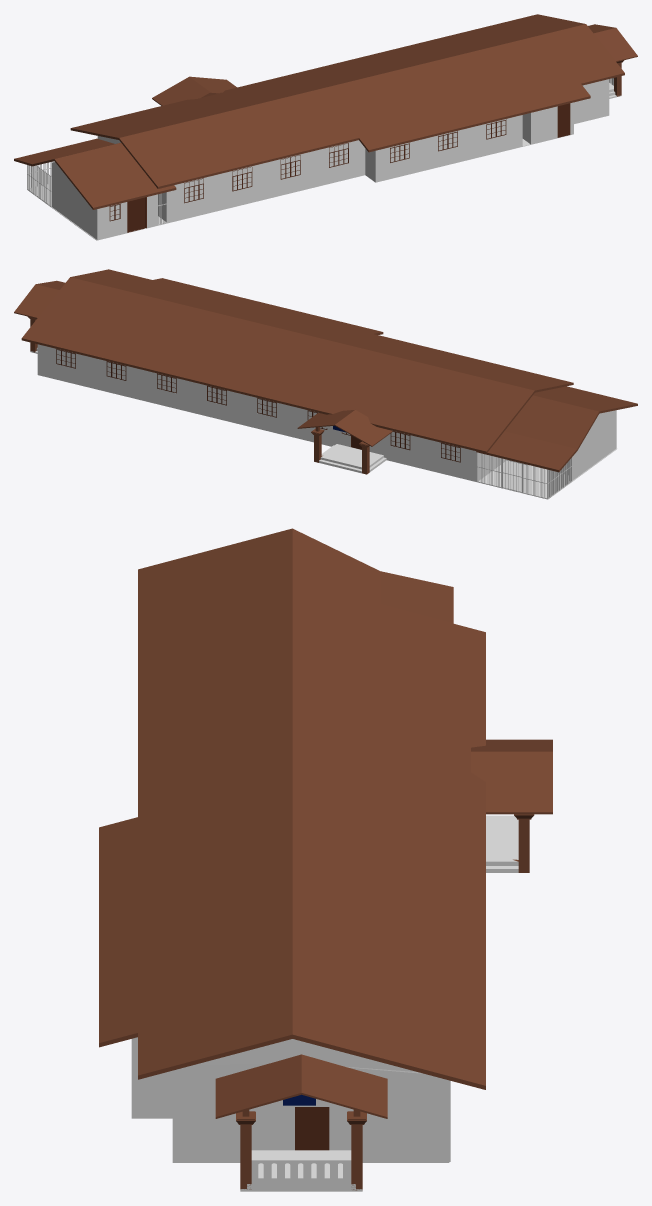
Rendered from Chemical_update.glb.
3 views of the same model, one above another, from view 1: azimuth 30°, elevation 25°; view 2: azimuth 150°, elevation 25°; view 3: azimuth 270°, elevation 25° (orthographic). The views are drawn at different scales.
Visible parts, largest first — view 1: Cube.001, reff.001, Cube.007, Cube.003, Cube.011, Cube.012, reff.023, reff.004, reff.008, reff.009, reff.007, reff.010 (+2 smaller); view 2: Cube.001, reff.001, Cube.007, Cube.011, Cube.012, Cube.003, Cube.010; view 3: Cube.001, reff.001, Cube.007, Cube.003, Cube, Cube.002, Cube.005, reff.022.
Boxes of the visible parts, x1=… form: Cube.001: x1=14, y1=14, x2=624, y2=209; reff.001: x1=52, y1=79, x2=609, y2=239; Cube.007: x1=152, y1=76, x2=236, y2=105; Cube.003: x1=588, y1=24, x2=637, y2=61; Cube.011: x1=27, y1=161, x2=52, y2=206; Cube.012: x1=28, y1=95, x2=621, y2=240; reff.023: x1=127, y1=197, x2=146, y2=232; reff.004: x1=557, y1=103, x2=570, y2=137; reff.008: x1=280, y1=155, x2=300, y2=179; reff.009: x1=232, y1=166, x2=252, y2=191; reff.007: x1=329, y1=143, x2=348, y2=167; reff.010: x1=184, y1=178, x2=203, y2=203; Cube.001: x1=21, y1=269, x2=637, y2=472; reff.001: x1=37, y1=344, x2=616, y2=481; Cube.007: x1=297, y1=410, x2=392, y2=474; Cube.011: x1=477, y1=452, x2=571, y2=499; Cube.012: x1=31, y1=352, x2=616, y2=499; Cube.003: x1=14, y1=280, x2=65, y2=318; Cube.010: x1=502, y1=458, x2=522, y2=492; Cube.001: x1=99, y1=528, x2=485, y2=1089; reff.001: x1=131, y1=1037, x2=450, y2=1161; Cube.007: x1=471, y1=739, x2=552, y2=872; Cube.003: x1=215, y1=1054, x2=387, y2=1118; Cube: x1=240, y1=1150, x2=362, y2=1190; Cube.002: x1=236, y1=1109, x2=366, y2=1190; Cube.005: x1=251, y1=1158, x2=351, y2=1178; reff.022: x1=295, y1=1107, x2=329, y2=1150.
Bounding box in the file's own units: 46.74 × 5.37 × 16.35.
